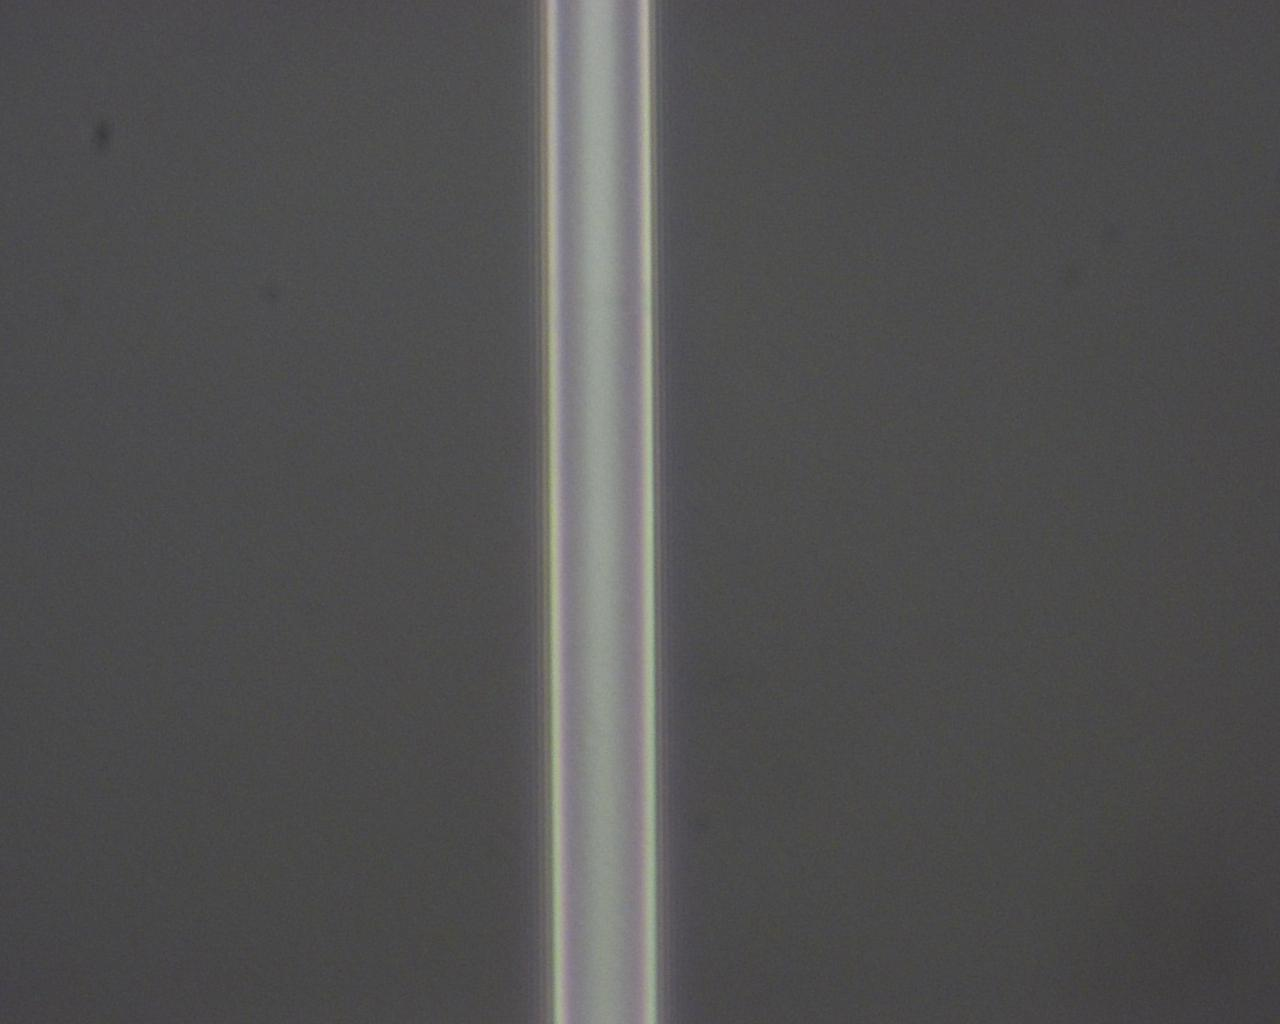fiber: (542, 0, 656, 1024)
